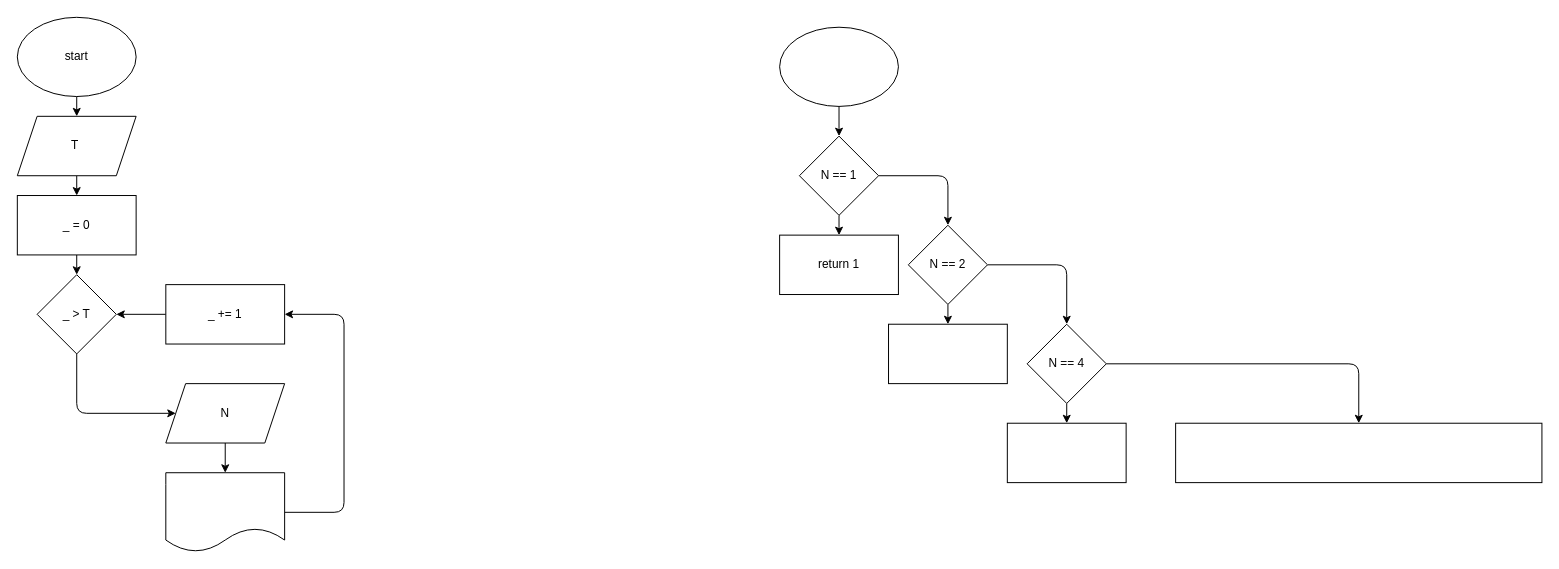
This 1559x569 diagram has some shape labels left out. Here are the shapes that lost their labels. From the top down, the centre of each, then its label:
the point at 838,66: def addition(N)
the point at 947,353: return 2
the point at 1066,452: return 3
the point at 1358,452: return addition(N - 1) + addition(N - 2) + addition(N - 3)
the point at 225,512: addition(N)
